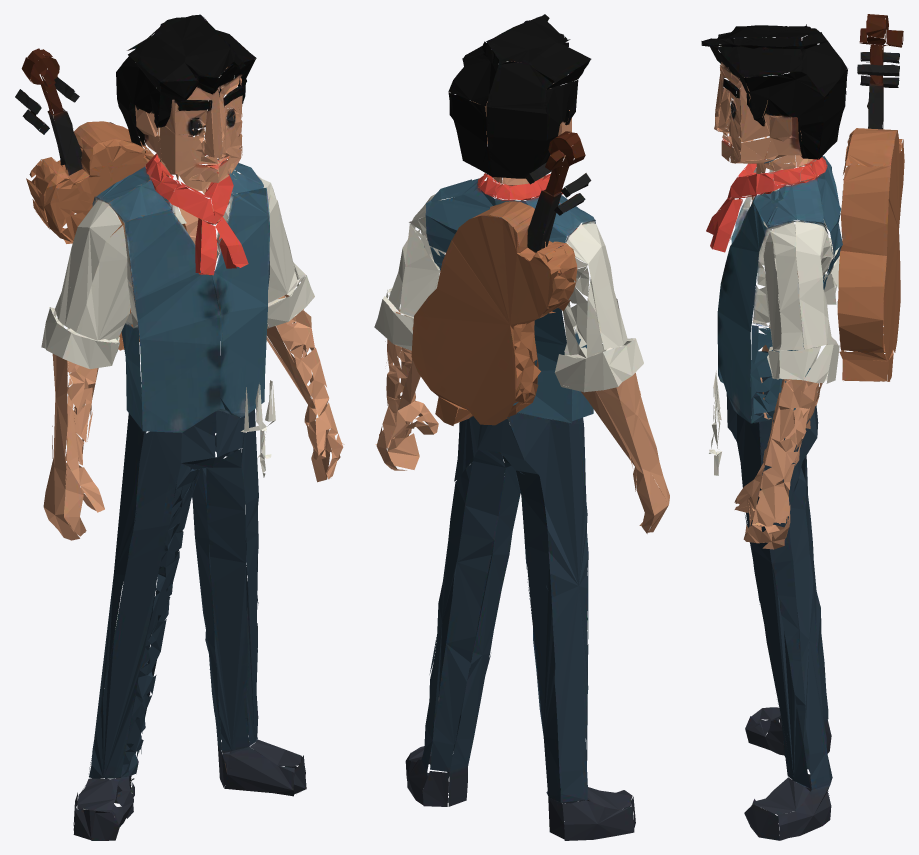
File: habitant.glb
3 renders of one model, left to right at view 1: azimuth 30°, elevation 25°; view 2: azimuth 150°, elevation 25°; view 3: azimuth 270°, elevation 25°, orthographic. The views are drawn at different scales.
Parts seen in each view (by area): view 1: world; view 2: world; view 3: world.
Part boxes in pixels (x1=…): world: x1=15, y1=14, x2=344, y2=840; world: x1=374, y1=14, x2=669, y2=840; world: x1=701, y1=14, x2=904, y2=840.
Size of the model in its own units: 0.385 by 1 by 0.2443.
Materials: 1 (1 with a texture image).
